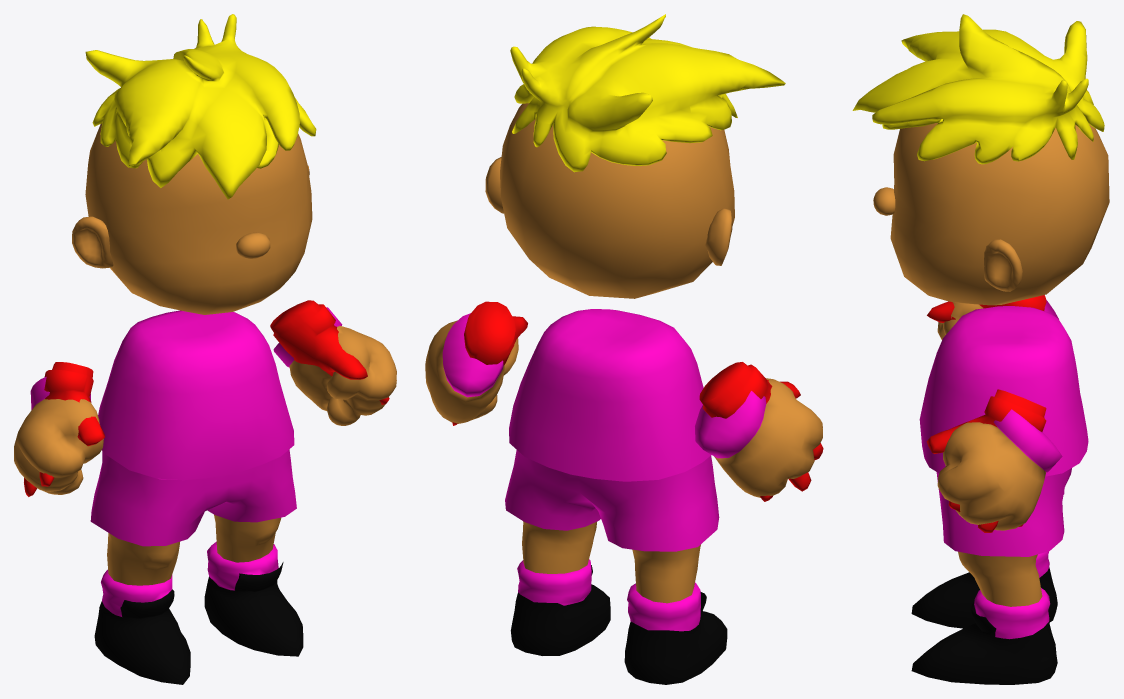
The model's file is TestMoken.fbx.
3 renders of one model, left to right at view 1: azimuth 30°, elevation 25°; view 2: azimuth 150°, elevation 25°; view 3: azimuth 270°, elevation 25°, orthographic. The views are drawn at different scales.
Parts seen in each view (by area): view 1: TestMoken_Body, TestMoken_Head, TestMoken_Hair, TestMoken_Hands, TestMoken_Gloves, TestMoken_Ears, TestMoken_Nose; view 2: TestMoken_Body, TestMoken_Head, TestMoken_Hair, TestMoken_Hands, TestMoken_Gloves, TestMoken_Ears; view 3: TestMoken_Body, TestMoken_Head, TestMoken_Hair, TestMoken_Hands, TestMoken_Gloves, TestMoken_Ears, TestMoken_Nose.
Boxes of the visible parts, <box> form: TestMoken_Body: <box>90,310,303,684</box>; TestMoken_Head: <box>85,123,312,314</box>; TestMoken_Hair: <box>85,14,316,199</box>; TestMoken_Hands: <box>14,307,396,494</box>; TestMoken_Gloves: <box>24,300,389,496</box>; TestMoken_Ears: <box>72,165,309,268</box>; TestMoken_Nose: <box>236,232,270,258</box>; TestMoken_Body: <box>505,309,727,684</box>; TestMoken_Head: <box>500,103,734,298</box>; TestMoken_Hair: <box>510,14,785,172</box>; TestMoken_Hands: <box>425,313,822,497</box>; TestMoken_Gloves: <box>452,301,823,501</box>; TestMoken_Ears: <box>485,157,732,265</box>; TestMoken_Body: <box>911,306,1088,684</box>; TestMoken_Head: <box>890,123,1109,305</box>; TestMoken_Hair: <box>852,14,1104,164</box>; TestMoken_Hands: <box>937,299,1062,530</box>; TestMoken_Gloves: <box>926,295,1046,532</box>; TestMoken_Ears: <box>984,239,1022,291</box>; TestMoken_Nose: <box>873,187,895,215</box>.
Size of the model in its own units: 5.09 by 8.06 by 3.05.
